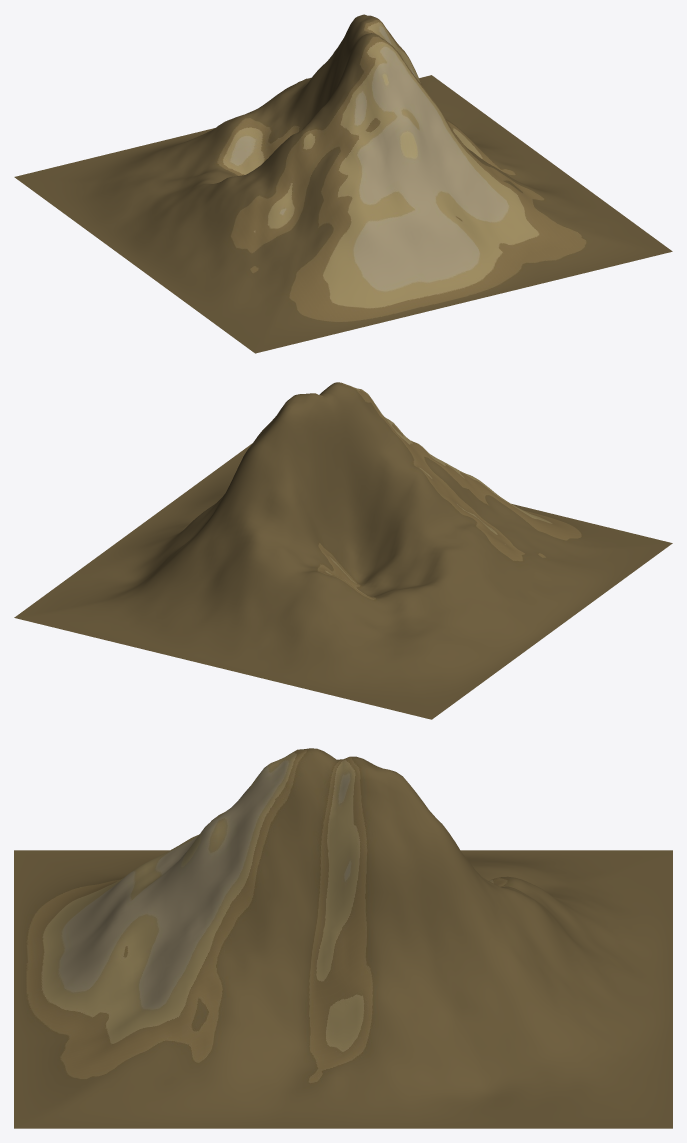
3 renders of one model, top to bottom at view 1: azimuth 30°, elevation 25°; view 2: azimuth 150°, elevation 25°; view 3: azimuth 270°, elevation 25°, orthographic. The views are drawn at different scales.
Parts seen in each view (by area): view 1: Landscape.1; view 2: Landscape.1; view 3: Landscape.1.
Boxes of the visible parts, x1=… form: Landscape.1: x1=14, y1=14, x2=672, y2=353; Landscape.1: x1=14, y1=382, x2=672, y2=719; Landscape.1: x1=14, y1=748, x2=672, y2=1128.
Bounding box in the file's own units: 1000 × 421 × 1000.
1 material, 1 textured.
